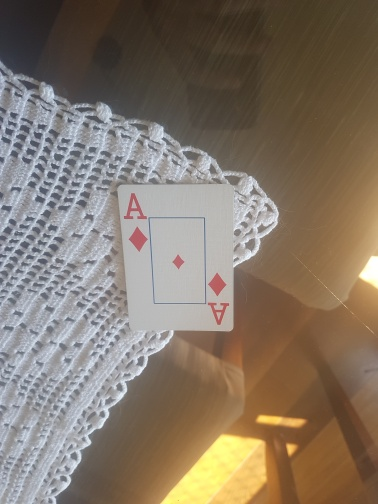ace: (116, 183, 236, 333)
